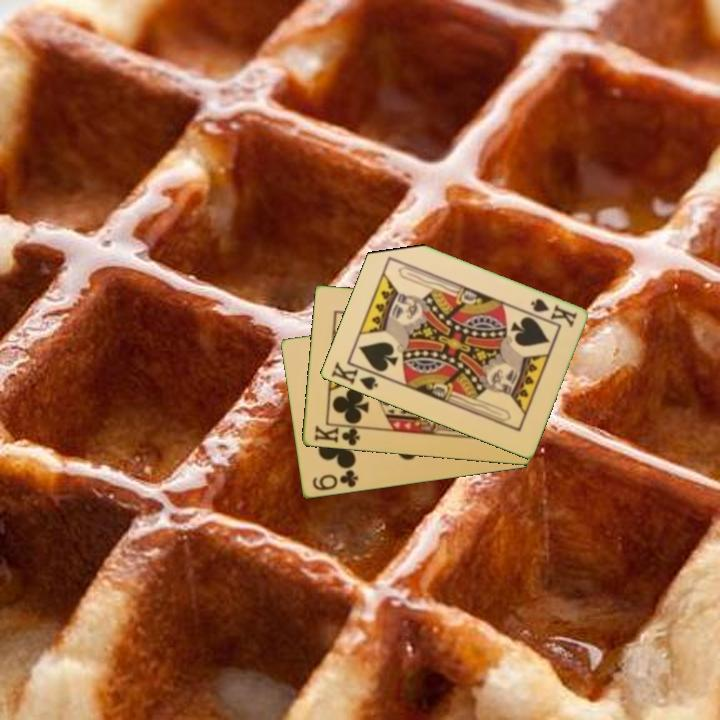6c: (308, 467, 361, 494)
Kc: (310, 421, 365, 449)
Ks: (327, 358, 381, 393), (527, 295, 579, 331)
